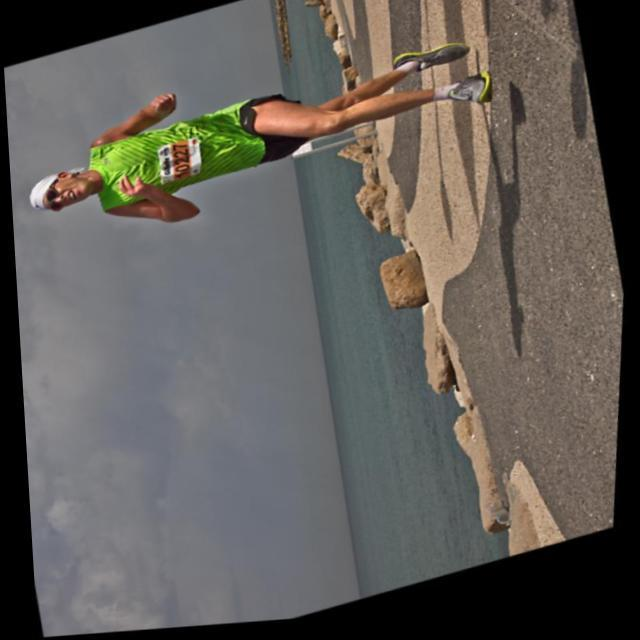dorsal: (146, 131, 217, 193)
